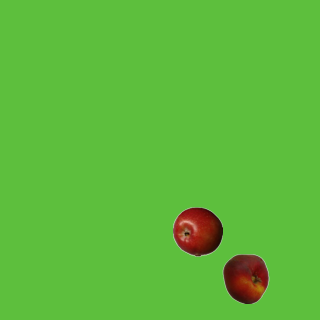Apple Braeburn: (172, 206, 222, 256)
Nectarine Flat: (220, 253, 270, 303)
